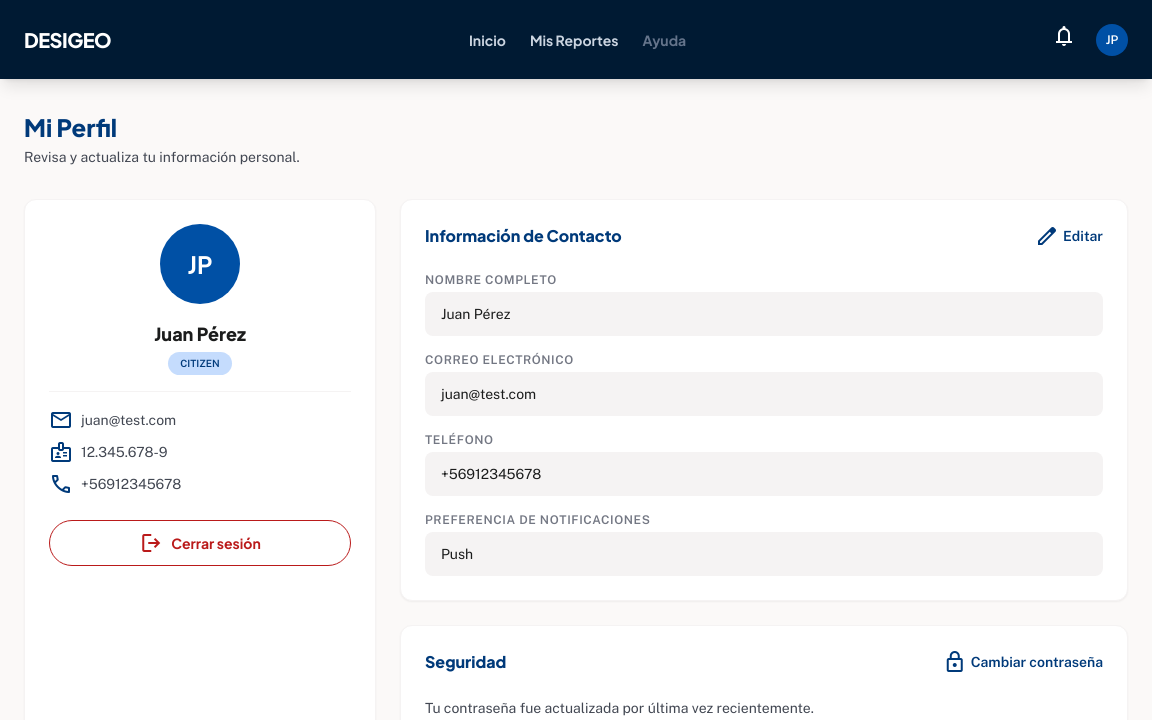
Test: CP-PERFIL — Perfil de Usuario › CP-PERFIL-002: tras éxito el formulario de contraseña se cierra
Expected: the heading "Mi Perfil" is shown, [24,112,117,142]
Click the button "Cambiar contraseña": (1023, 662) [943,650,1103,674]
(page scrolled)
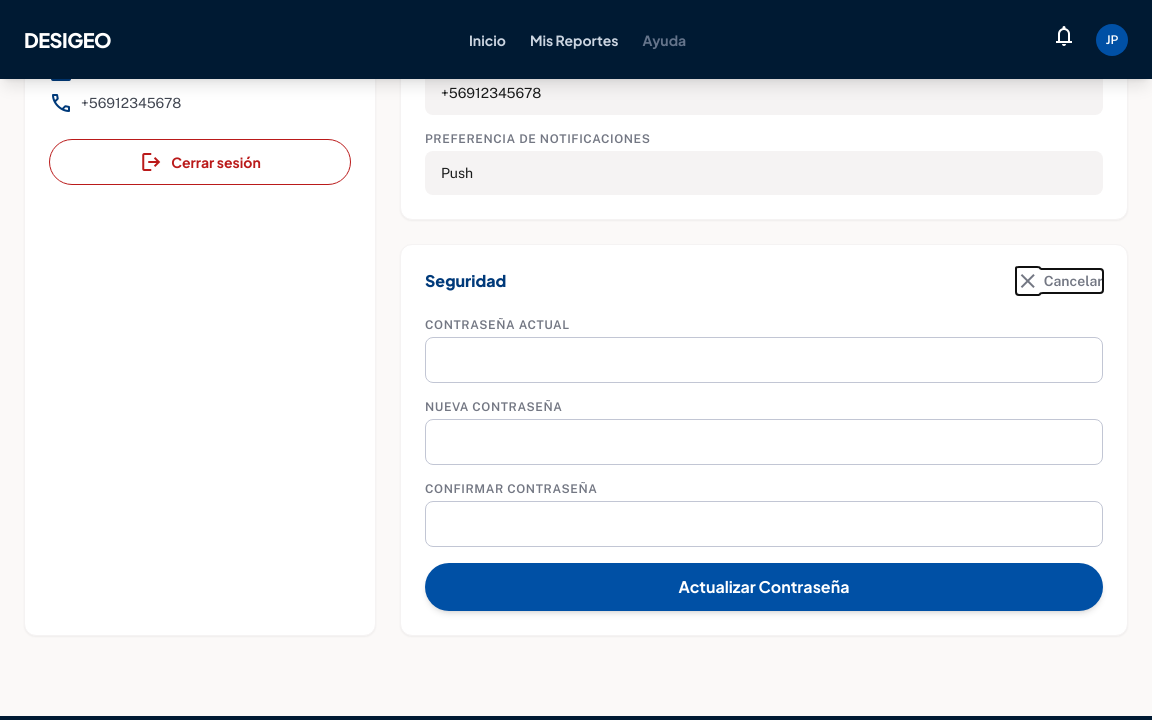
Now the button "Actualizar Contraseña" is shown, box [425,563,1103,611]
In the 1st password field: (764, 360) [425,337,1103,383], type "OldPass123!"
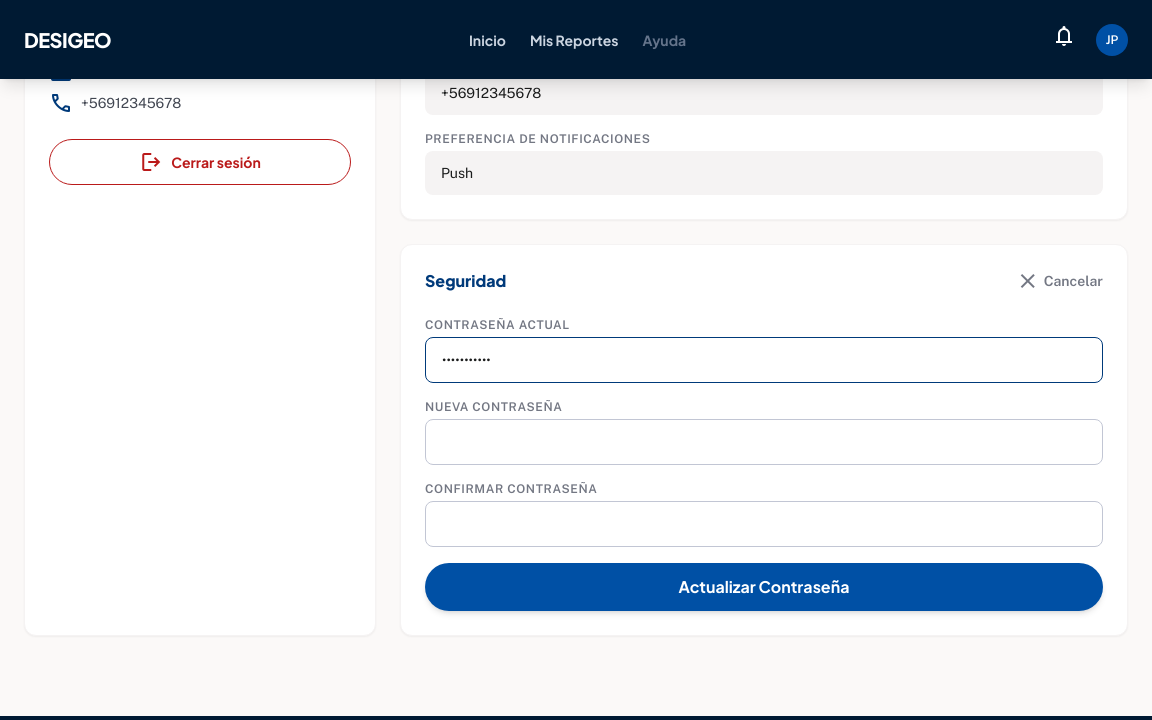
In the password field below "Nueva contraseña": (764, 442) [425,419,1103,465], type "NewPass456!"
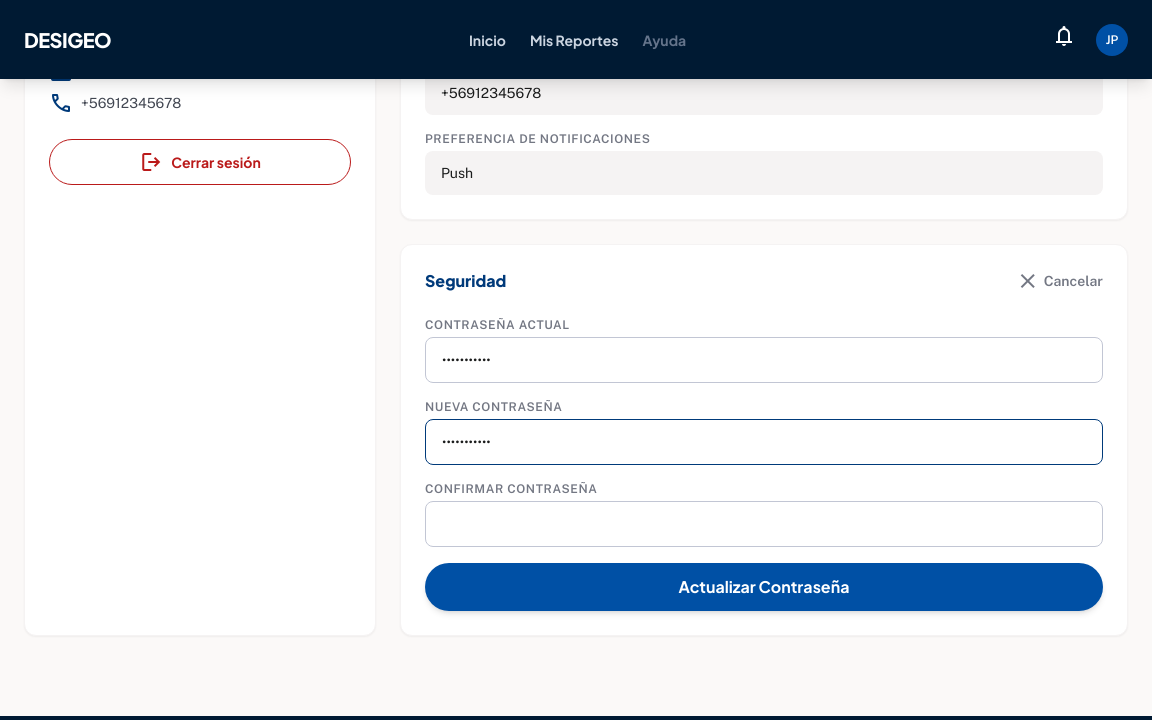
In the password field below "Confirmar contraseña": (764, 524) [425,501,1103,547], type "NewPass456!"
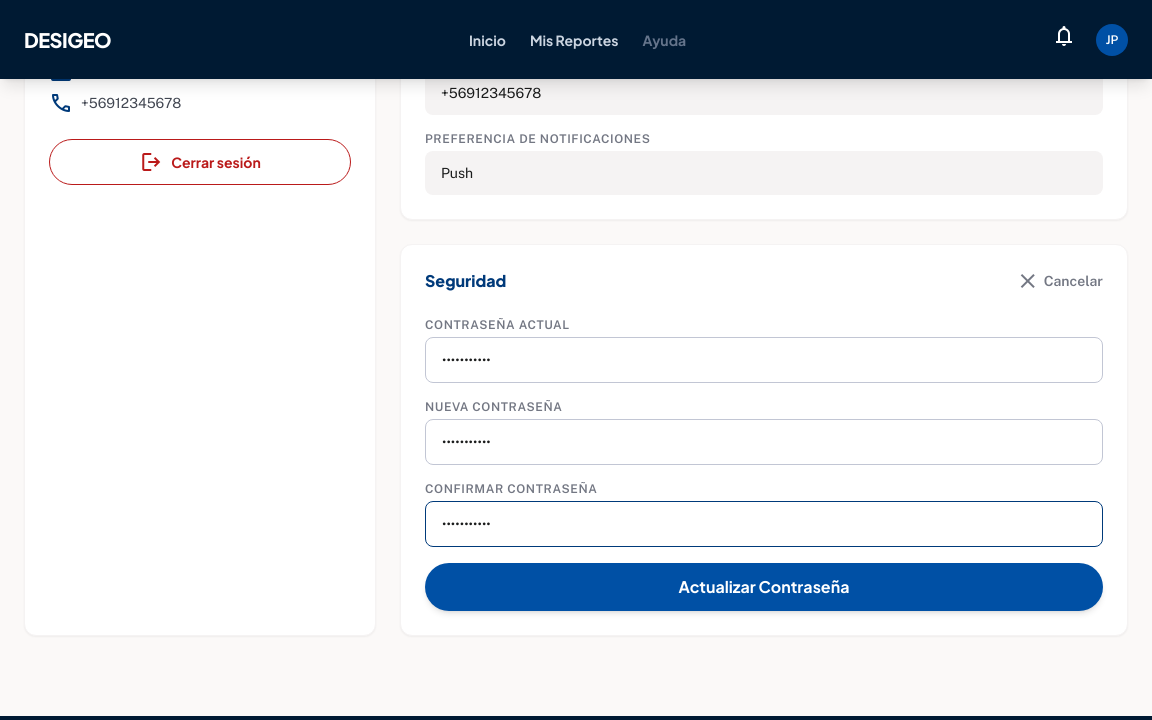
Click the button "Actualizar Contraseña": (764, 587) [425,563,1103,611]
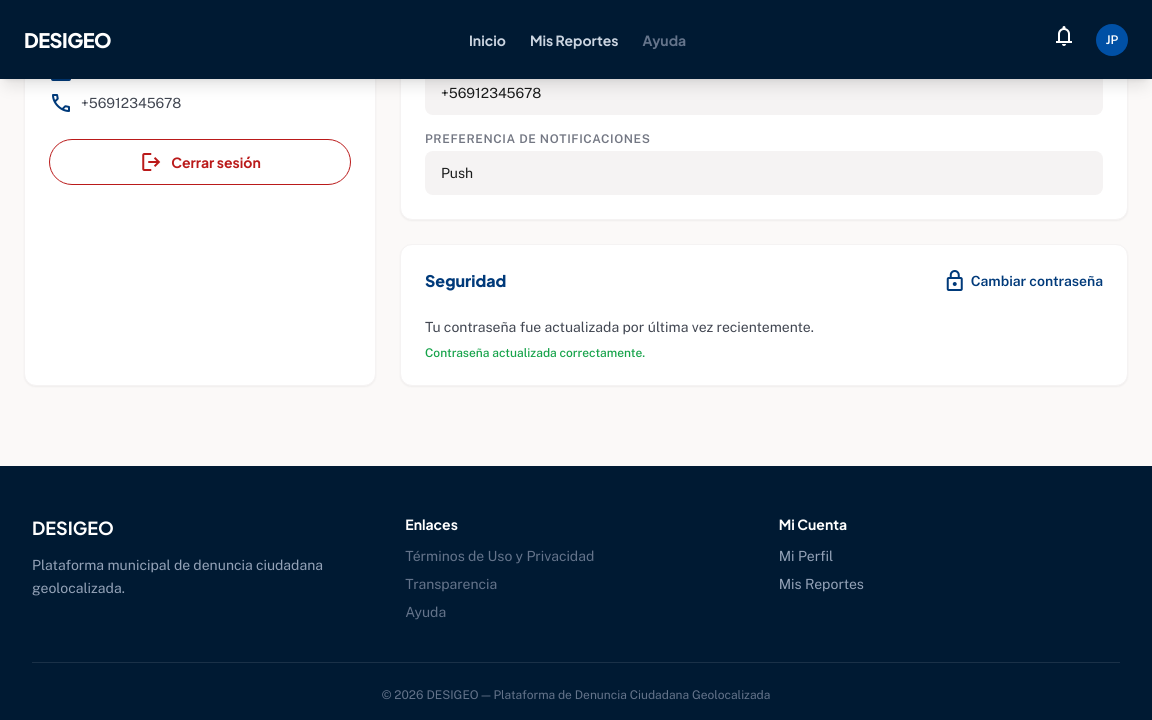
Now the button "Actualizar Contraseña" is gone
